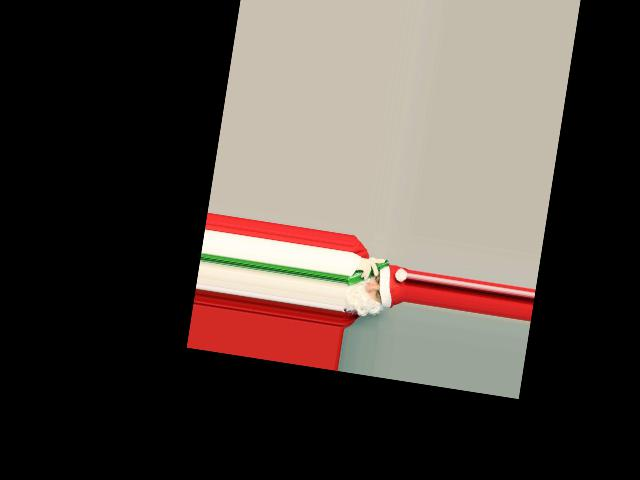beer: (346, 253, 389, 290)
